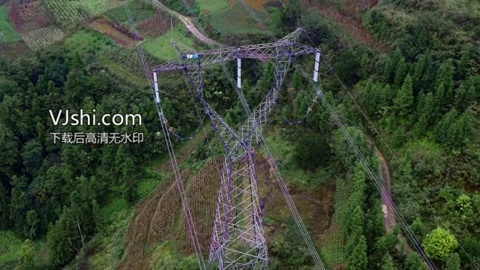tower_body: (143, 22, 340, 270)
tower_foot: (206, 211, 270, 270)
tower_head: (146, 24, 337, 152)
